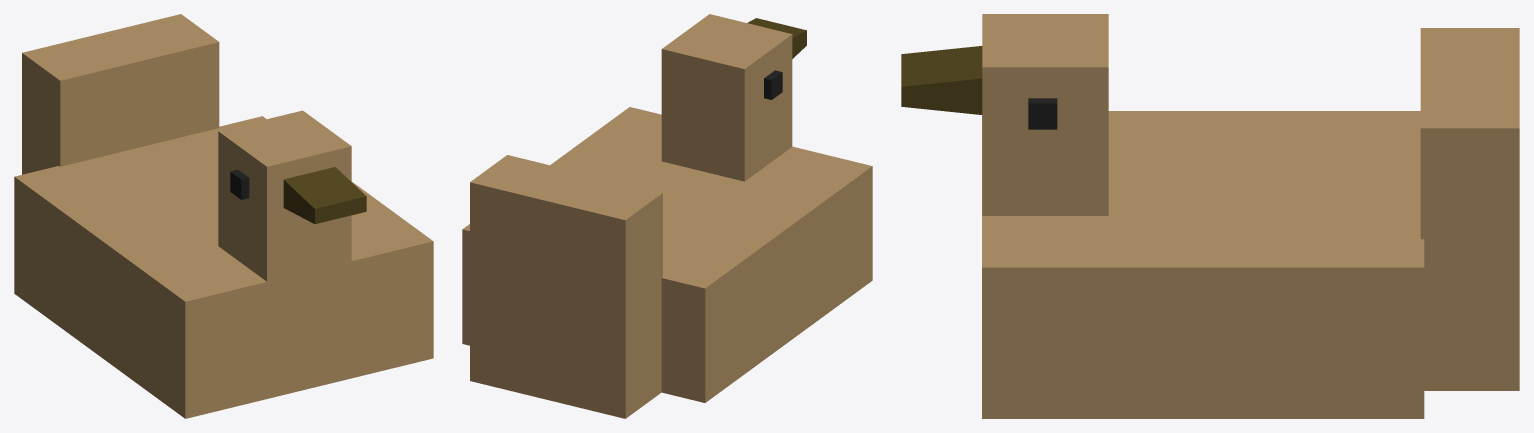
Rendered from 086 Duck.fbx.
3 renders of one model, left to right at view 1: azimuth 30°, elevation 25°; view 2: azimuth 150°, elevation 25°; view 3: azimuth 270°, elevation 25°, orthographic. The views are drawn at different scales.
Parts seen in each view (by area): view 1: Lowpoly_Christmas_Pack_086:pCube1; view 2: Lowpoly_Christmas_Pack_086:pCube1; view 3: Lowpoly_Christmas_Pack_086:pCube1.
Part boxes in pixels (<box>): Lowpoly_Christmas_Pack_086:pCube1: <box>14,14,433,418</box>; Lowpoly_Christmas_Pack_086:pCube1: <box>462,14,872,418</box>; Lowpoly_Christmas_Pack_086:pCube1: <box>901,14,1519,418</box>.
Size of the model in its own units: 1 by 0.8937 by 1.67.
